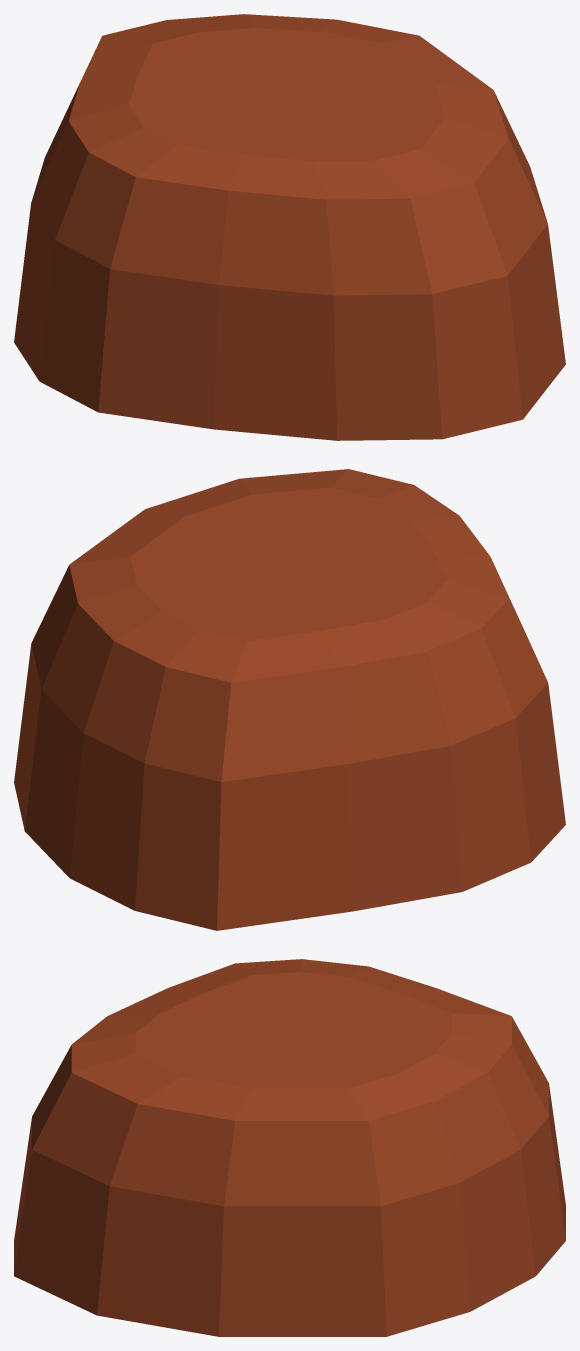
Rendered from TerrainPart1.obj.
3 renders of one model, top to bottom at view 1: azimuth 30°, elevation 25°; view 2: azimuth 150°, elevation 25°; view 3: azimuth 270°, elevation 25°, orthographic. The views are drawn at different scales.
Visible parts, largest first — view 1: Meshpart1; view 2: Meshpart1; view 3: Meshpart1.
Boxes of the visible parts, x1,y1,x2,y2 form: Meshpart1: [14, 14, 565, 440]; Meshpart1: [14, 469, 565, 930]; Meshpart1: [14, 959, 565, 1336].
Bounding box in the file's own units: 500 × 238 × 574.
